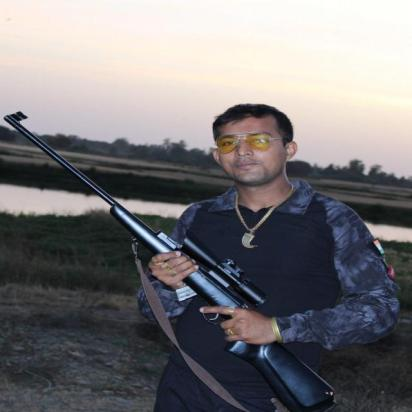Gun: (0, 108, 341, 412)
